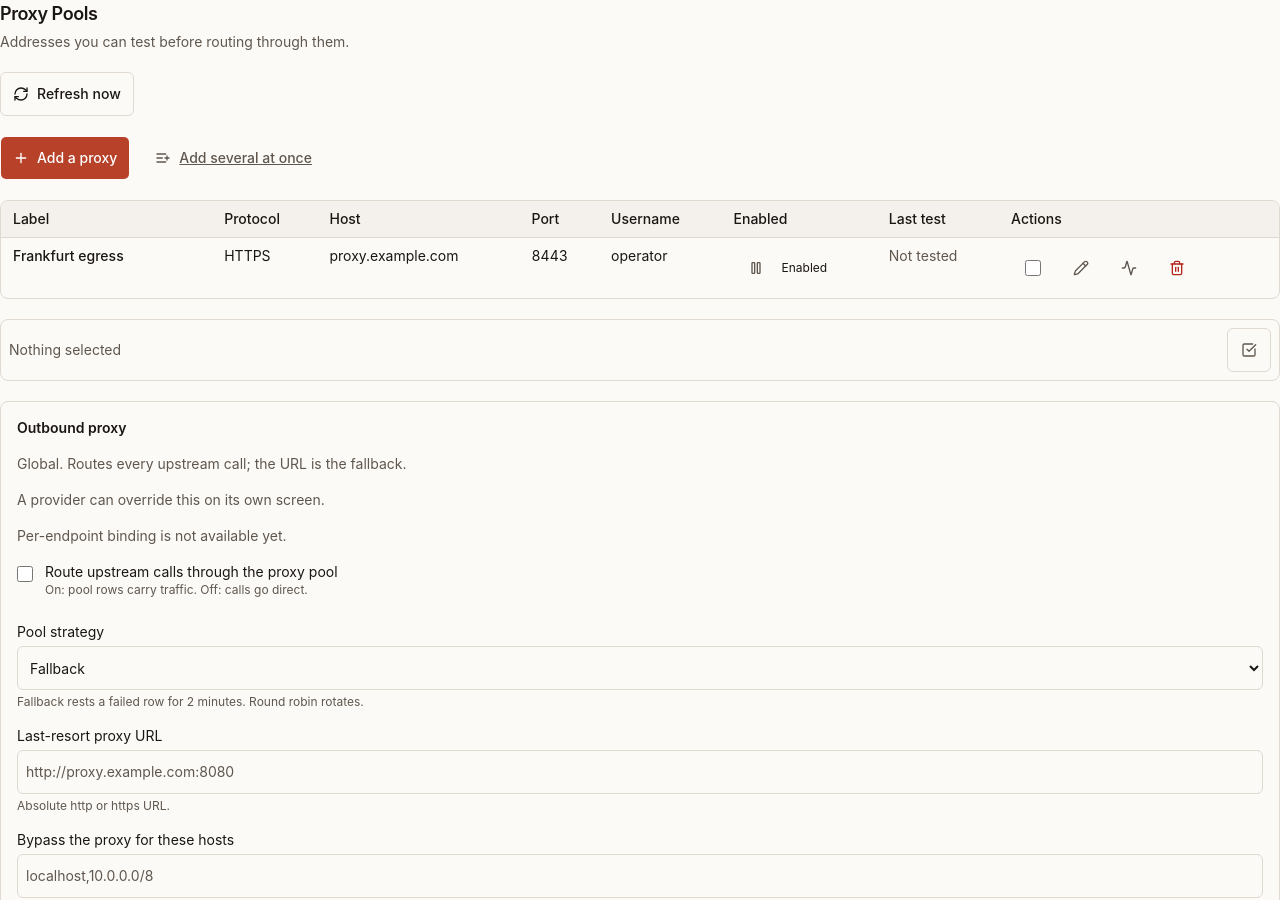
editing a proxy › replaces the stored password when a new one is typed
Expected: the table is shown, [1,201,1279,298]
Click the button named "Edit Frankfurt egress". click: click(1081, 268)
box: [1059,246,1103,290]
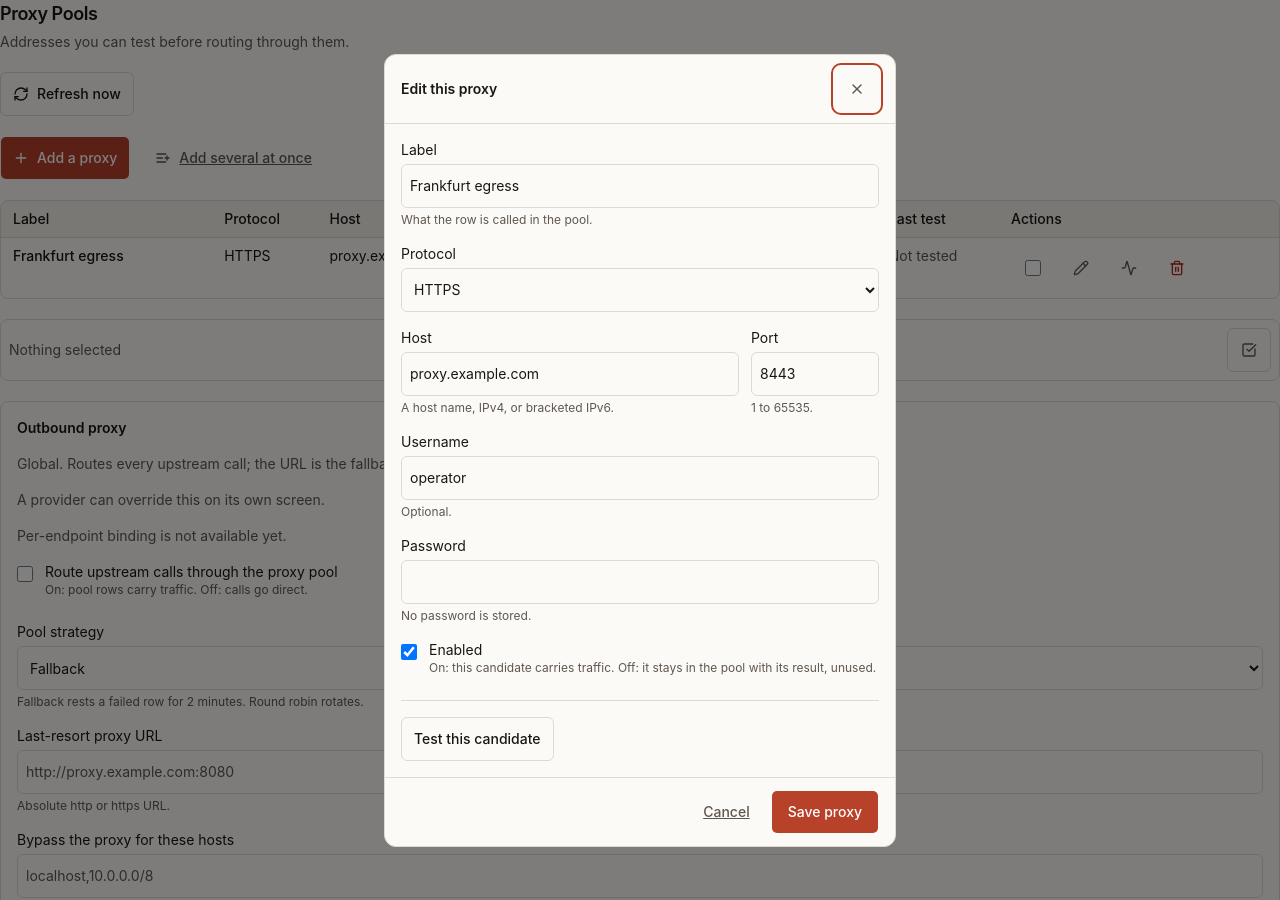
Expected: the text "No password is stored." is shown, [401,608,531,622]
Type "hunter2" into the password field labelled "Password". click: (640, 582)
box: [401,560,879,604]
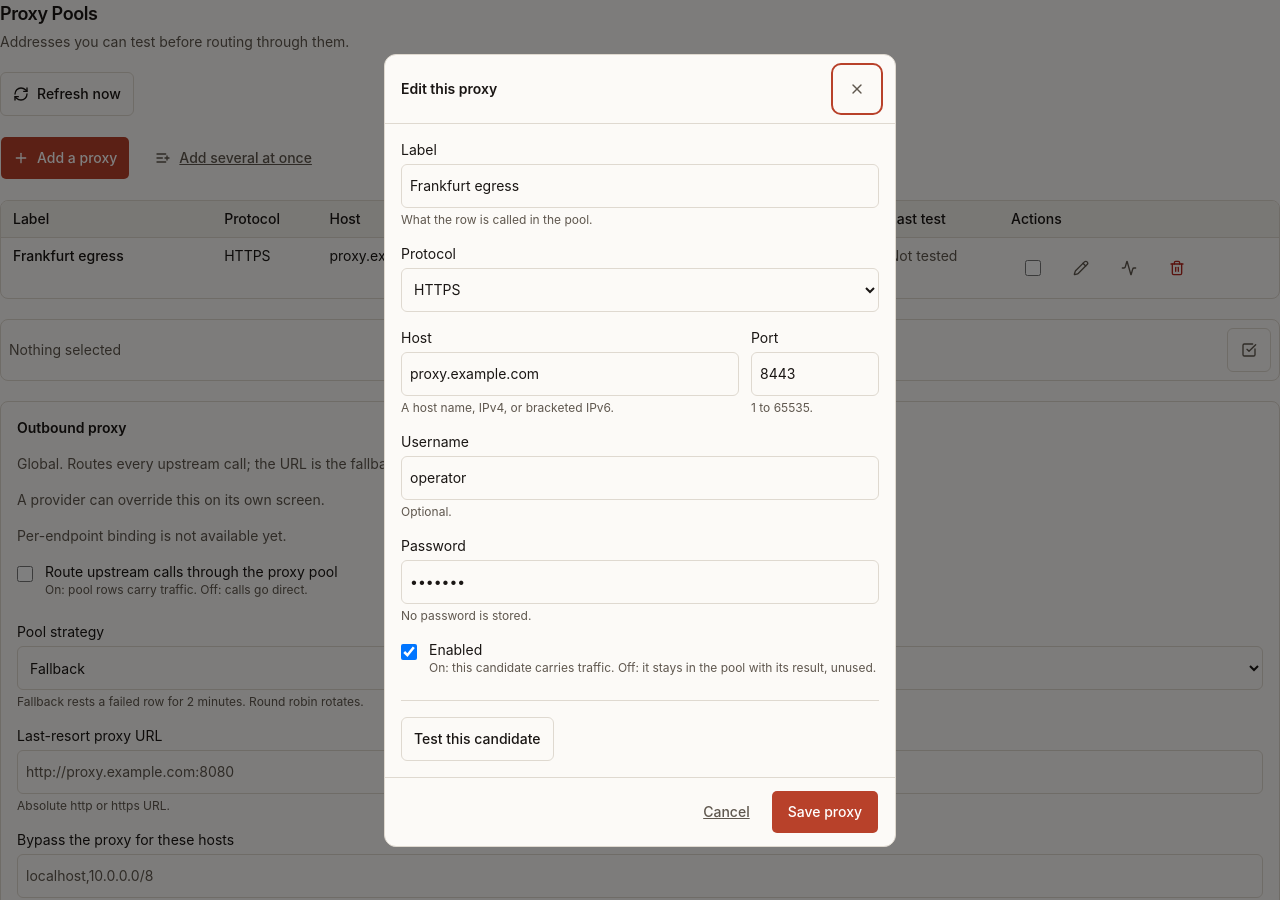
Click the button "Save proxy". click: click(825, 812)
box: [771,790,879,834]
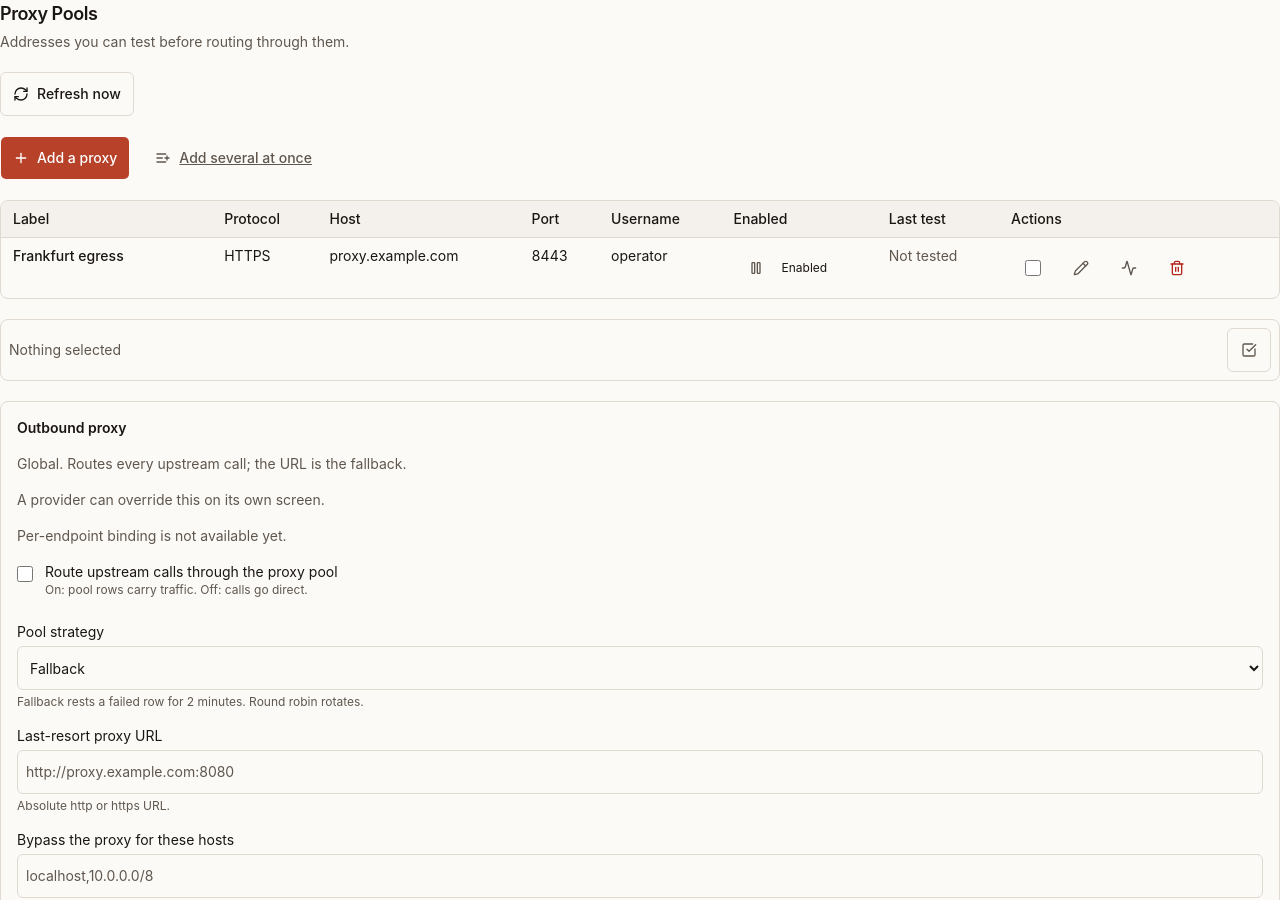
Click the button named "Edit Frankfurt egress". click: click(1081, 268)
box: [1059,246,1103,290]
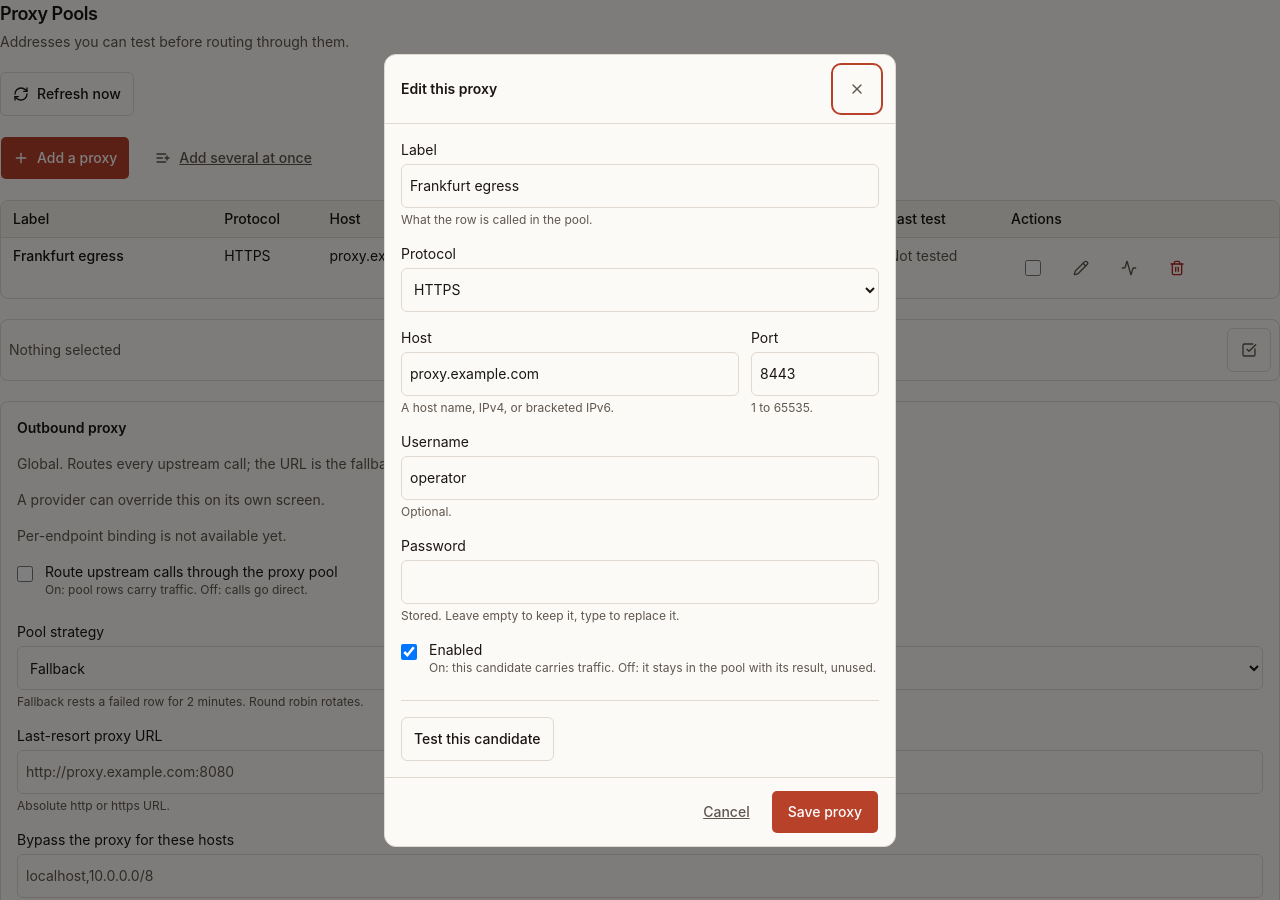
Expected: the text "Stored. Leave empty to keep it, type to replace it." is shown, [401,608,680,622]
